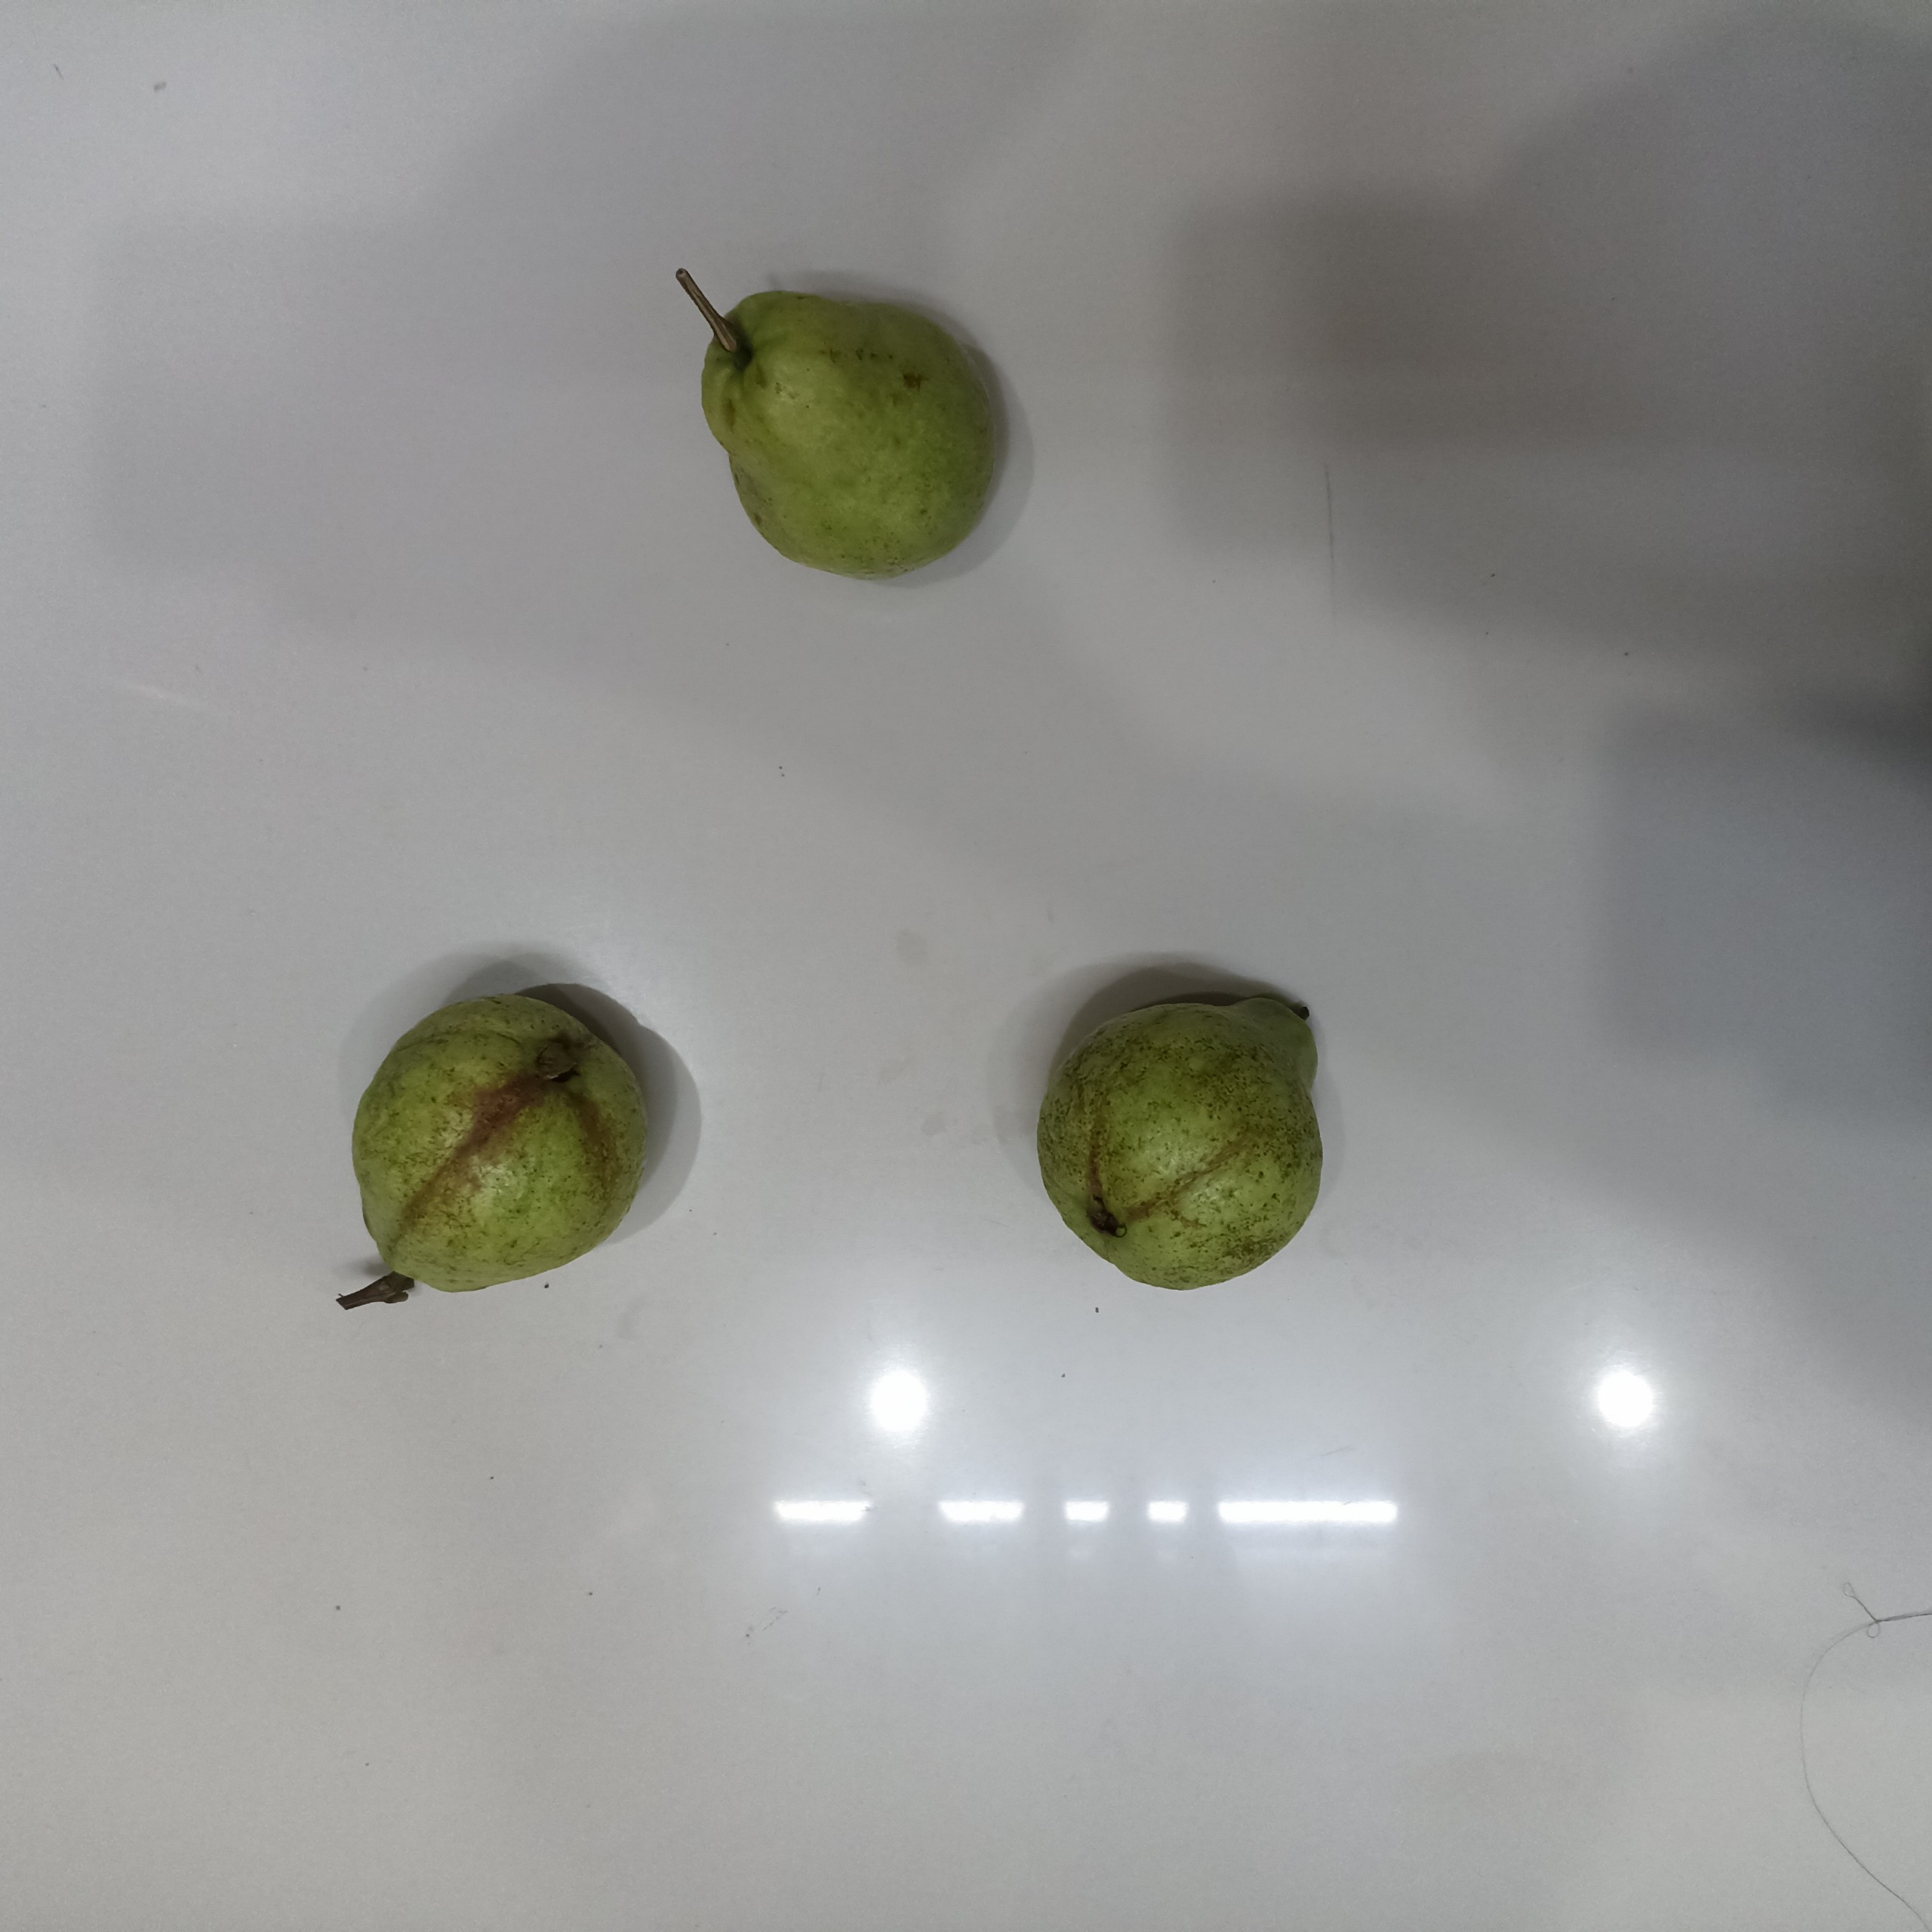Oi: (688, 285, 1010, 585), (350, 997, 653, 1299), (1032, 992, 1330, 1288)
